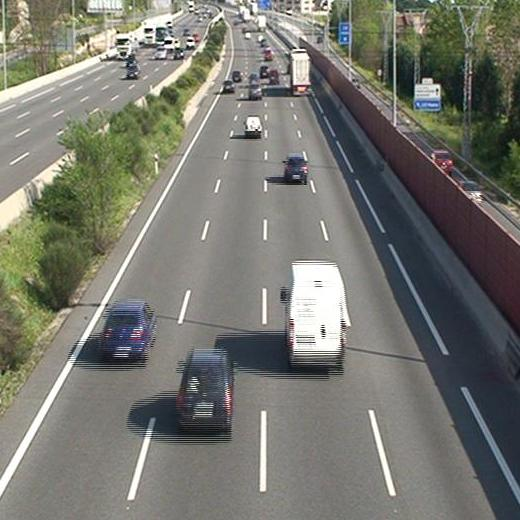car: (176, 351, 231, 427), (102, 303, 154, 356), (284, 156, 308, 180), (245, 116, 262, 135), (248, 85, 261, 97), (258, 66, 269, 79), (222, 81, 234, 92), (230, 70, 240, 80)
truck: (290, 49, 309, 95)
van: (286, 263, 345, 366), (269, 69, 279, 83)
